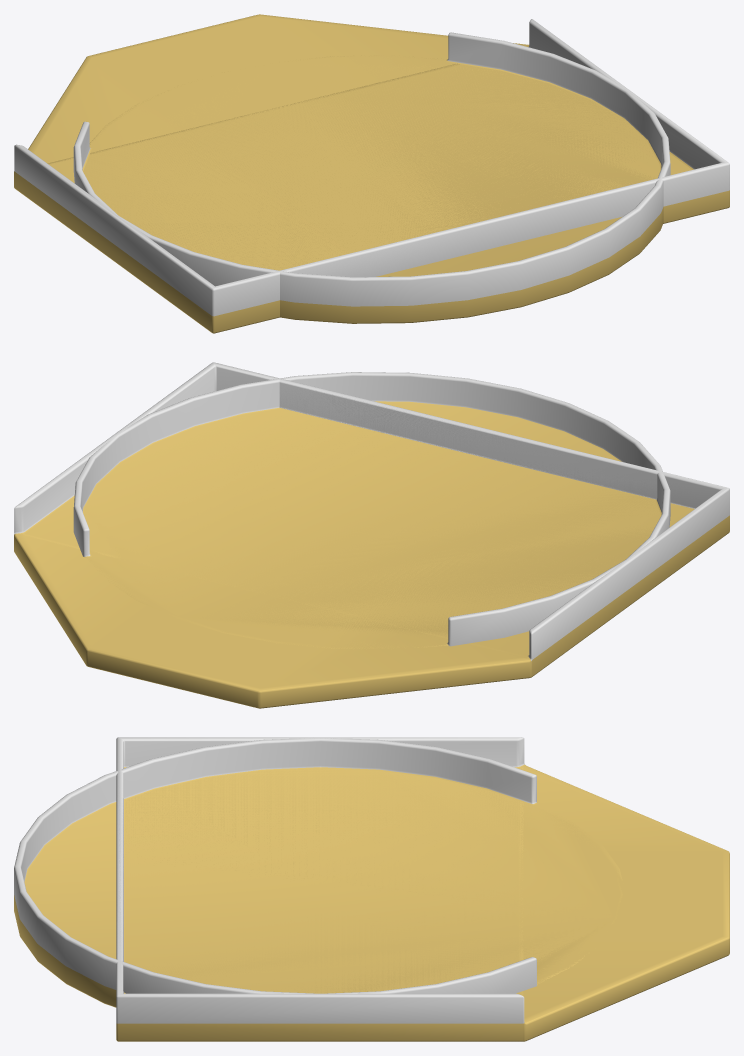
File: Platform_SeperatedBorder.fbx
3 renders of one model, top to bottom at view 1: azimuth 30°, elevation 25°; view 2: azimuth 150°, elevation 25°; view 3: azimuth 270°, elevation 25°, orthographic. The views are drawn at different scales.
Parts seen in each view (by area): view 1: Platform_3, Platform_1, Platform_2, Platform_2_Border, Platform_1_Border, Platform_3_Border; view 2: Platform_1, Platform_2, Platform_3, Platform_1_Border, Platform_2_Border, Platform_3_Border; view 3: Platform_1, Platform_2, Platform_3, Platform_2_Border, Platform_1_Border, Platform_3_Border.
Part boxes in pixels (x1=…): Platform_3: x1=14, y1=14, x2=728, y2=332; Platform_1: x1=14, y1=46, x2=729, y2=333; Platform_2: x1=82, y1=55, x2=663, y2=323; Platform_2_Border: x1=73, y1=32, x2=670, y2=306; Platform_1_Border: x1=14, y1=19, x2=729, y2=316; Platform_3_Border: x1=14, y1=163, x2=728, y2=315; Platform_1: x1=23, y1=407, x2=729, y2=676; Platform_2: x1=83, y1=401, x2=661, y2=648; Platform_3: x1=14, y1=409, x2=726, y2=708; Platform_1_Border: x1=14, y1=362, x2=729, y2=659; Platform_2_Border: x1=73, y1=372, x2=670, y2=646; Platform_3_Border: x1=14, y1=362, x2=725, y2=660; Platform_1: x1=116, y1=767, x2=523, y2=1041; Platform_2: x1=14, y1=767, x2=622, y2=1007; Platform_3: x1=125, y1=764, x2=729, y2=1041; Platform_2_Border: x1=14, y1=738, x2=536, y2=993; Platform_1_Border: x1=116, y1=737, x2=524, y2=1023; Platform_3_Border: x1=116, y1=738, x2=524, y2=1022.
Size of the model in its own units: 3000 by 250 by 3500.
